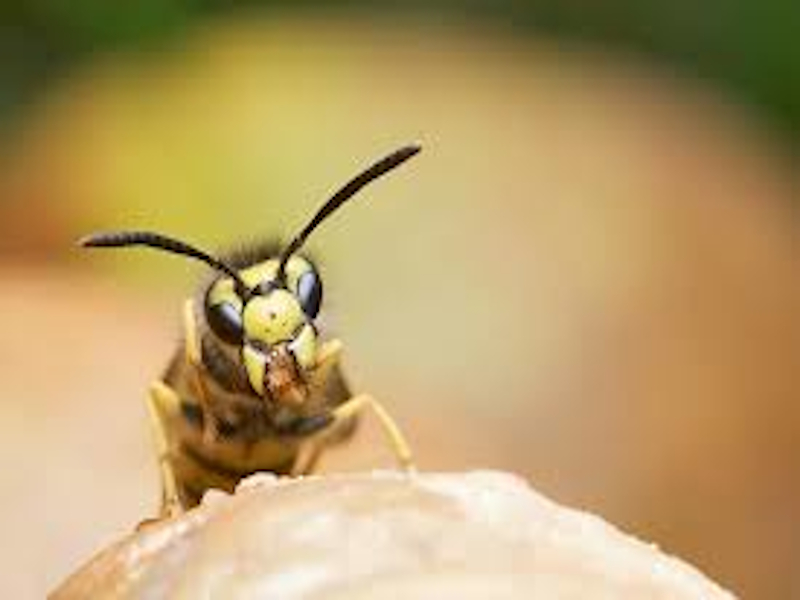chax: (53, 113, 443, 581)
